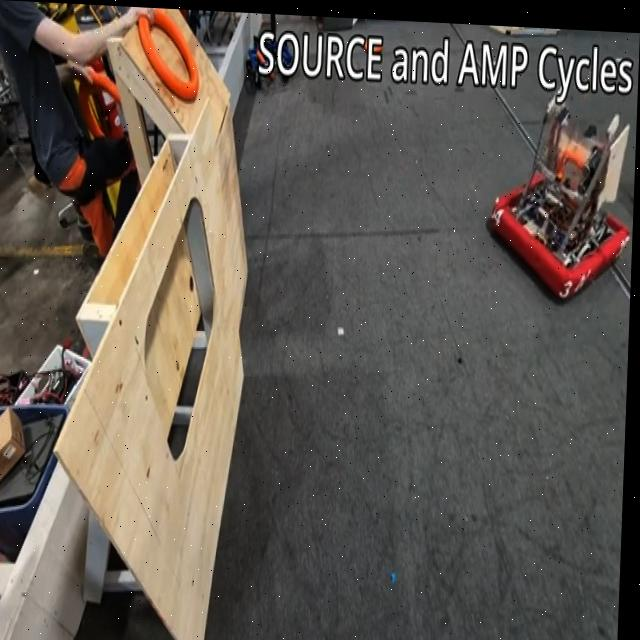note: (134, 6, 204, 103)
robot: (488, 83, 637, 302)
